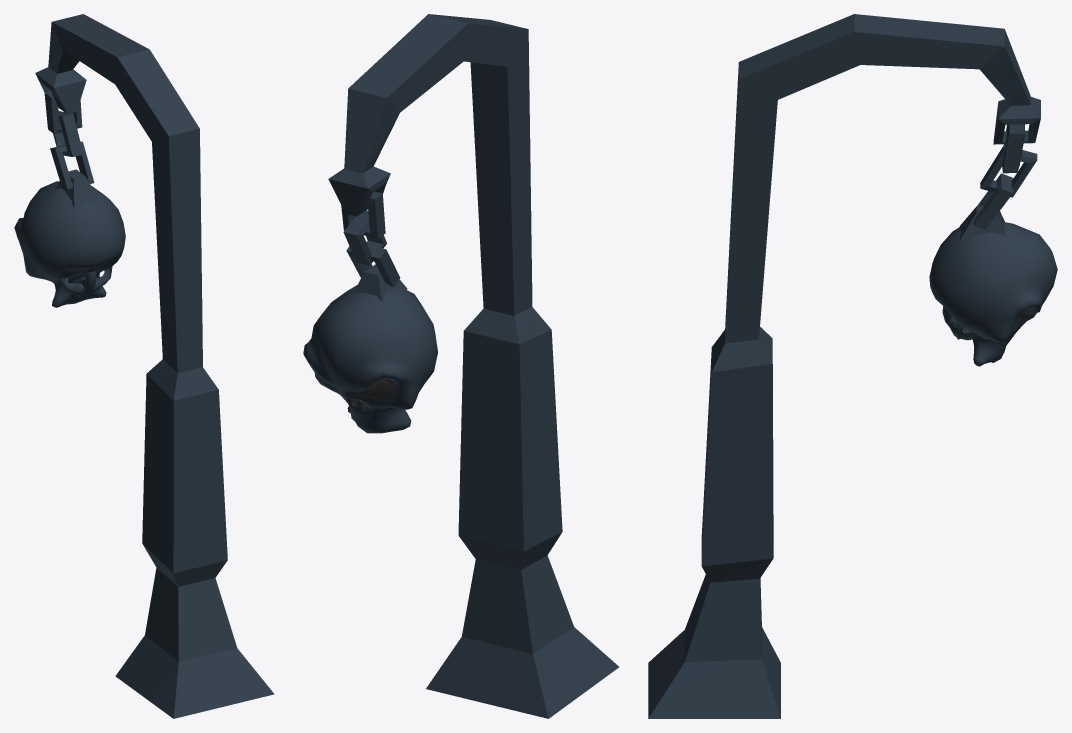
The model's file is CH_CE_StreetLight_Hell.FBX.
The picture shows the model from 3 angles, left to right: view 1: azimuth 30°, elevation 25°; view 2: azimuth 150°, elevation 25°; view 3: azimuth 270°, elevation 25°; orthographic projection. The views are drawn at different scales.
Visible parts, largest first — view 1: CH_CE_StreetLight_Hell; view 2: CH_CE_StreetLight_Hell; view 3: CH_CE_StreetLight_Hell.
Boxes of the visible parts, <box> form: CH_CE_StreetLight_Hell: <box>14,14,274,718</box>; CH_CE_StreetLight_Hell: <box>303,14,618,718</box>; CH_CE_StreetLight_Hell: <box>648,14,1057,718</box>.
Bounding box in the file's own units: 66.71 × 370 × 206.
